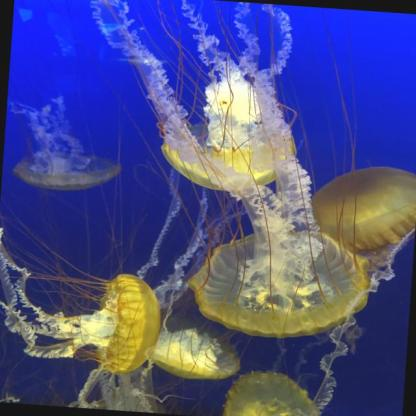jellyfish: (182, 216, 381, 340), (162, 77, 300, 193), (8, 95, 128, 193), (306, 163, 416, 269), (76, 274, 165, 375), (202, 370, 330, 416), (145, 330, 243, 379)
